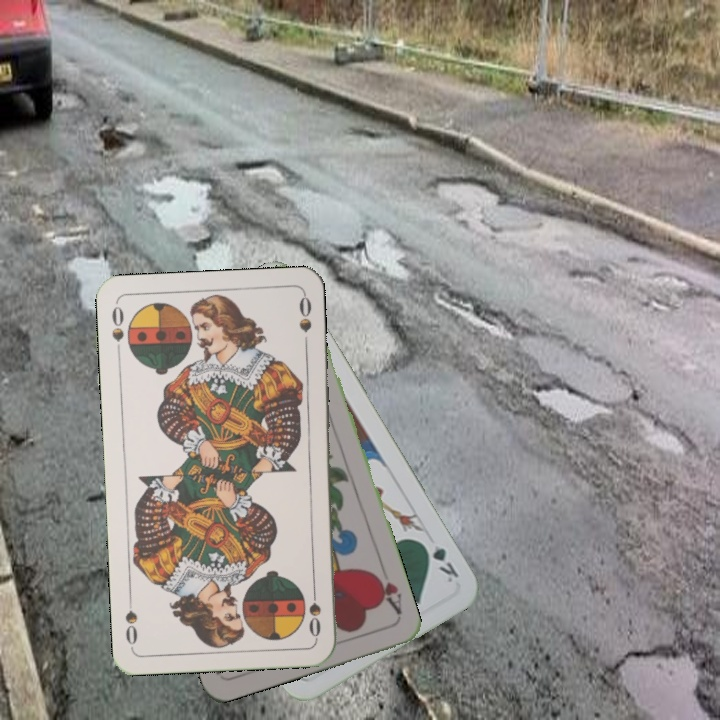GK: (417, 537, 462, 585)
HA: (369, 562, 405, 617)
SO: (304, 581, 324, 640), (107, 302, 127, 359)
